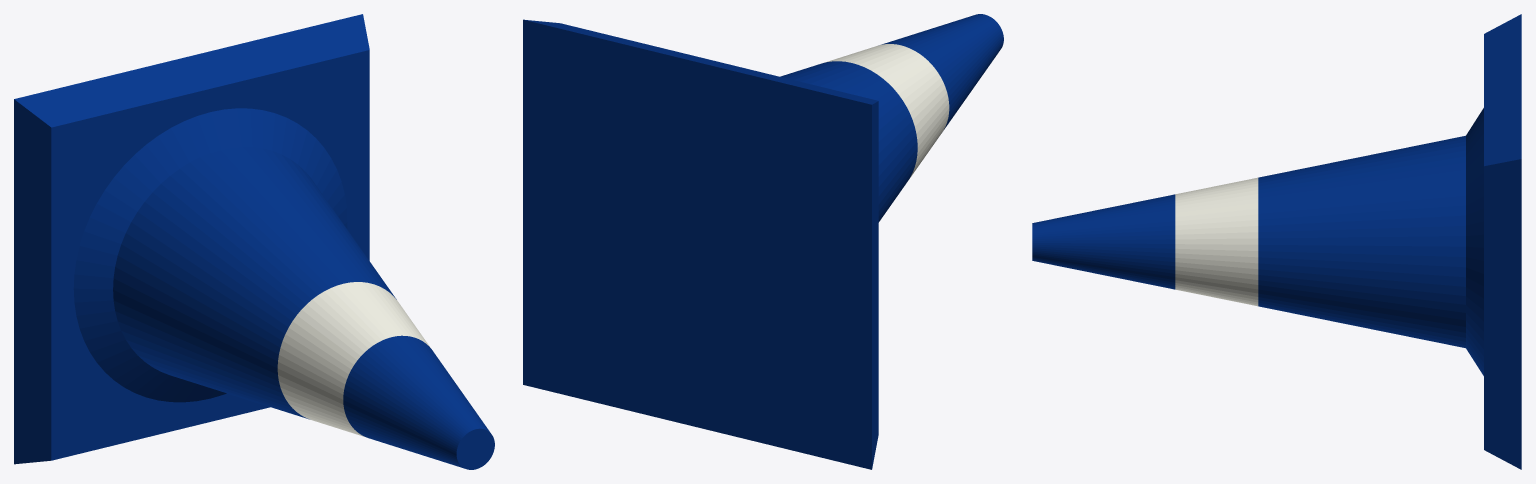
File: fsae_small_blue_single_white.obj
3 views of the same model, side by side, from view 1: azimuth 30°, elevation 25°; view 2: azimuth 150°, elevation 25°; view 3: azimuth 270°, elevation 25° (orthographic). The views are drawn at different scales.
Size of the model in its own units: 22.8 by 22.8 by 32.5.
Materials: 2 (2 with a texture image).
